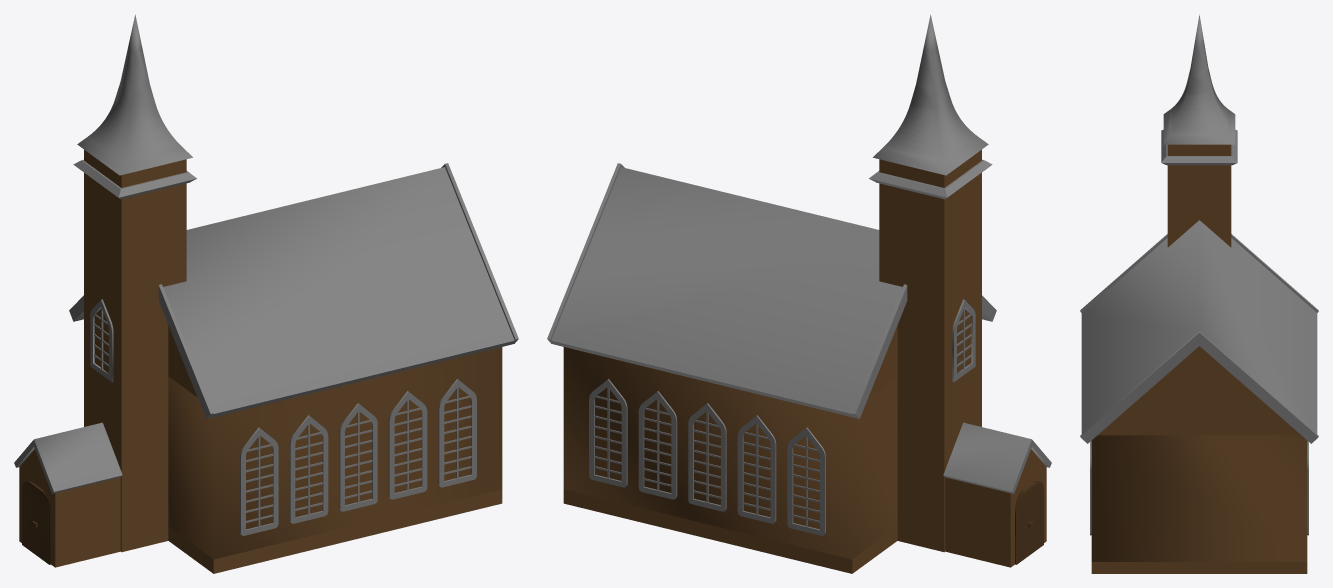
The model's file is Churches(3).glb.
3 views of the same model, side by side, from view 1: azimuth 30°, elevation 25°; view 2: azimuth 150°, elevation 25°; view 3: azimuth 270°, elevation 25° (orthographic). The views are drawn at different scales.
Visible parts, largest first — view 1: Root; view 2: Root; view 3: Root.
Part boxes in pixels (<box>): Root: <box>14,14,518,573</box>; Root: <box>547,14,1051,573</box>; Root: <box>1080,14,1318,573</box>.
Size of the model in its own units: 12.65 by 15.08 by 7.49.
